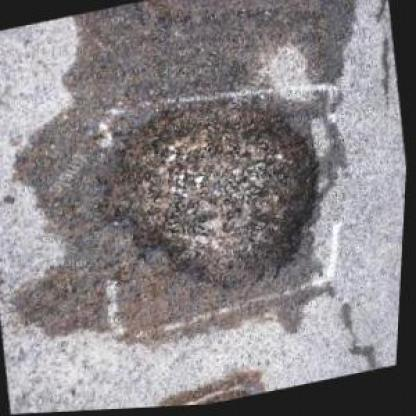pothole: (84, 76, 346, 320)
